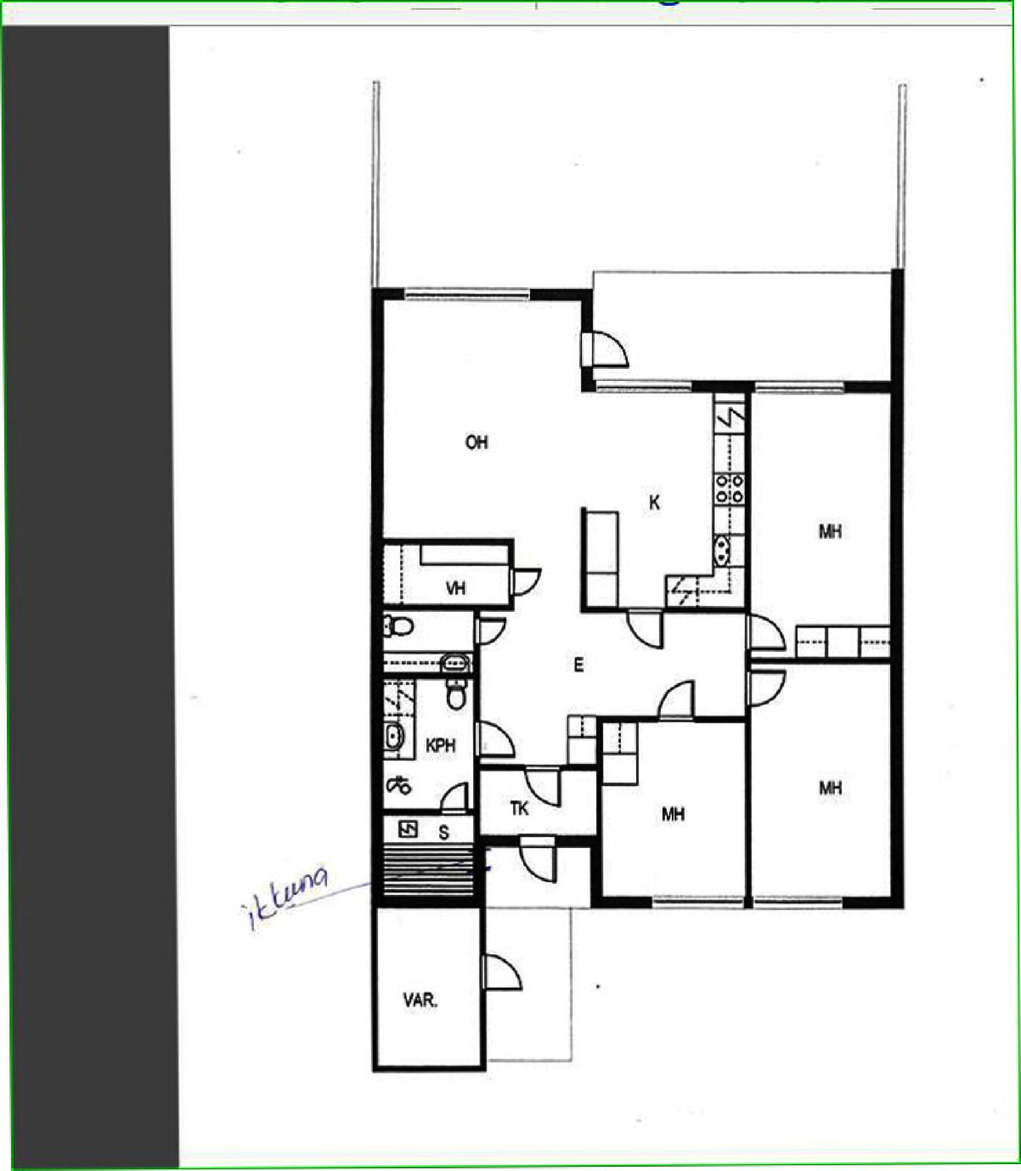door: (520, 834, 564, 886), (623, 602, 667, 650), (522, 764, 562, 812), (580, 330, 629, 369), (742, 613, 788, 650), (480, 954, 521, 992), (472, 718, 513, 754), (740, 672, 786, 704), (660, 678, 695, 718), (510, 568, 541, 598), (473, 613, 502, 643), (442, 778, 467, 812)
window: (402, 284, 528, 302), (594, 375, 694, 393), (748, 891, 838, 910), (754, 379, 839, 399), (651, 891, 738, 910)
zone: (382, 298, 743, 757), (377, 82, 896, 291), (750, 395, 888, 653), (753, 664, 893, 893), (592, 272, 896, 376), (601, 717, 752, 896), (376, 911, 485, 1065), (481, 910, 570, 1063), (383, 681, 476, 804), (477, 765, 600, 834), (382, 816, 477, 900), (381, 544, 509, 597), (487, 850, 589, 905), (382, 605, 472, 664)
